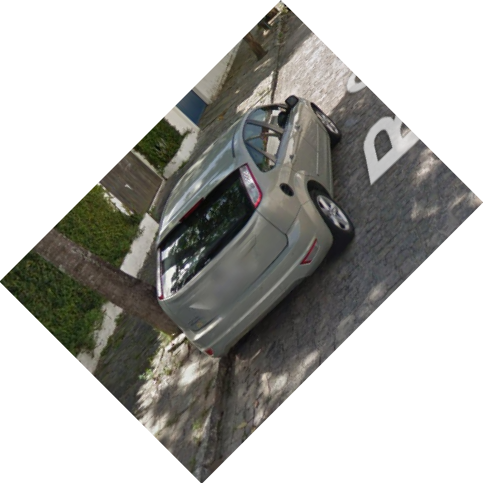car: (151, 94, 356, 369)
